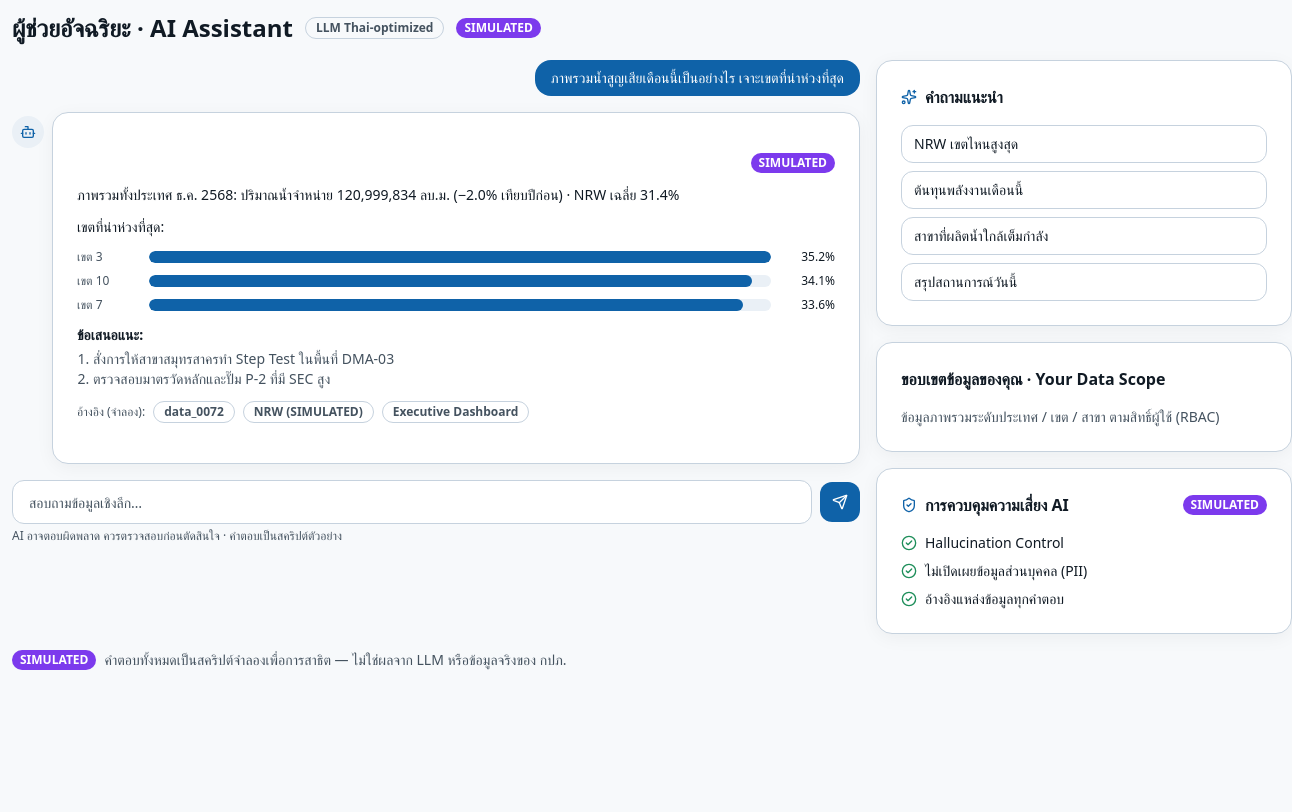
Scenario: AiAssistantScreen › falls back honestly for an unrecognised question
Type "สวัสดีครับ" into the field labelled "สอบถามข้อมูลเชิงลึก" at [412, 502], box 12,480 -> 812,524
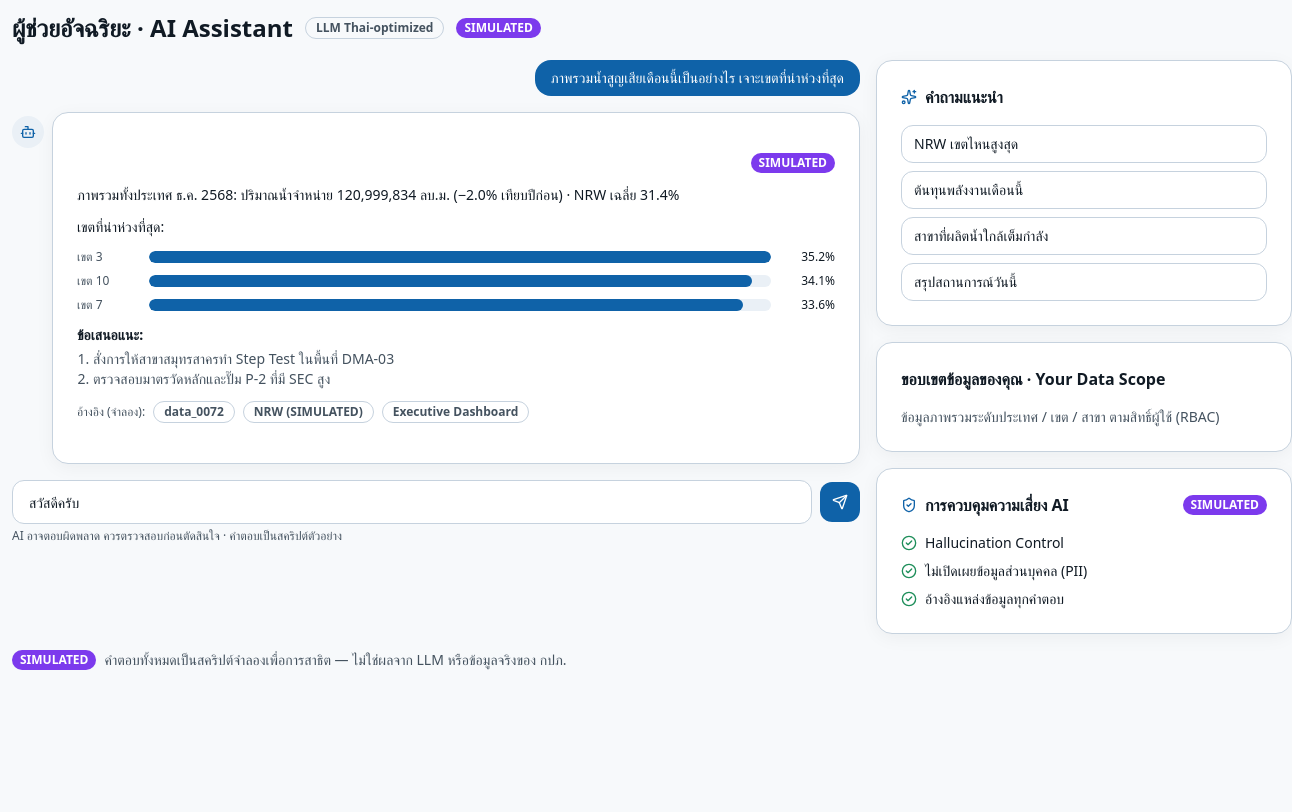
Submit the form named "สอบถามข้อมูลเชิงลึก", box 12,480 -> 860,524
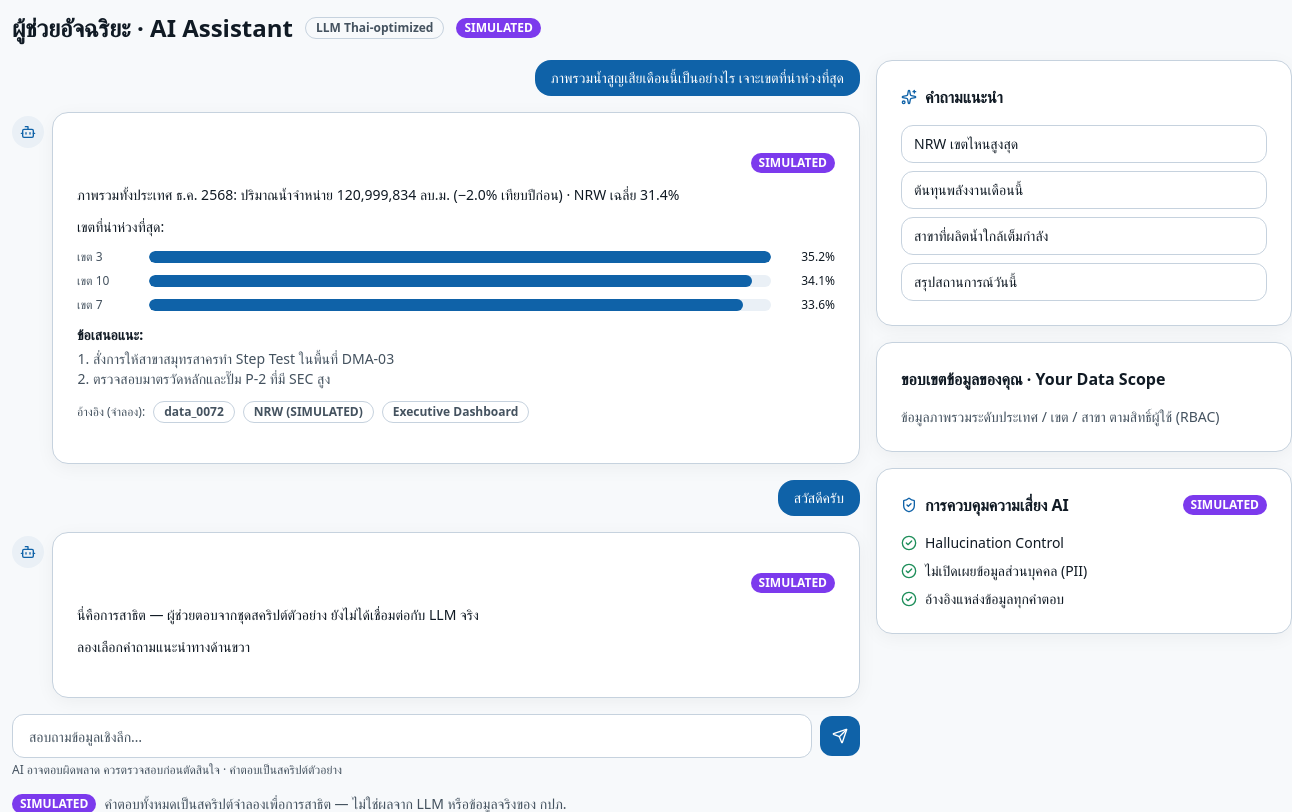
Check: the text "ยังไม่ได้เชื่อมต่อกับ LLM จริง" is shown, box 77,605 -> 479,624
